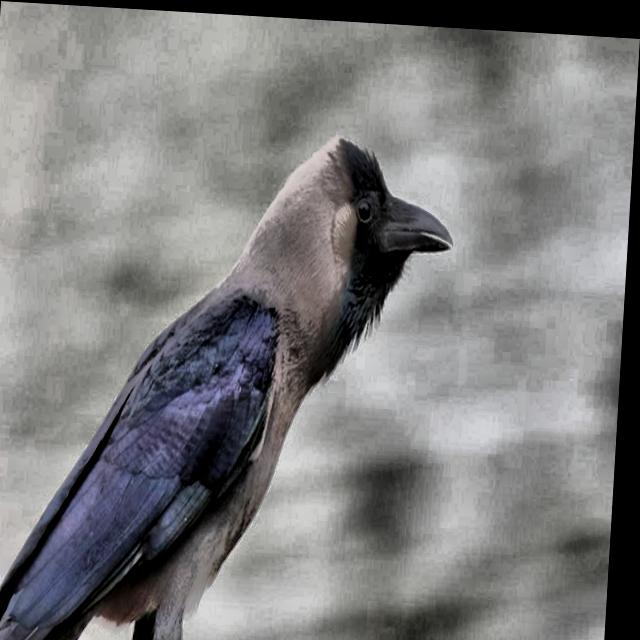crow: (0, 113, 460, 640)
